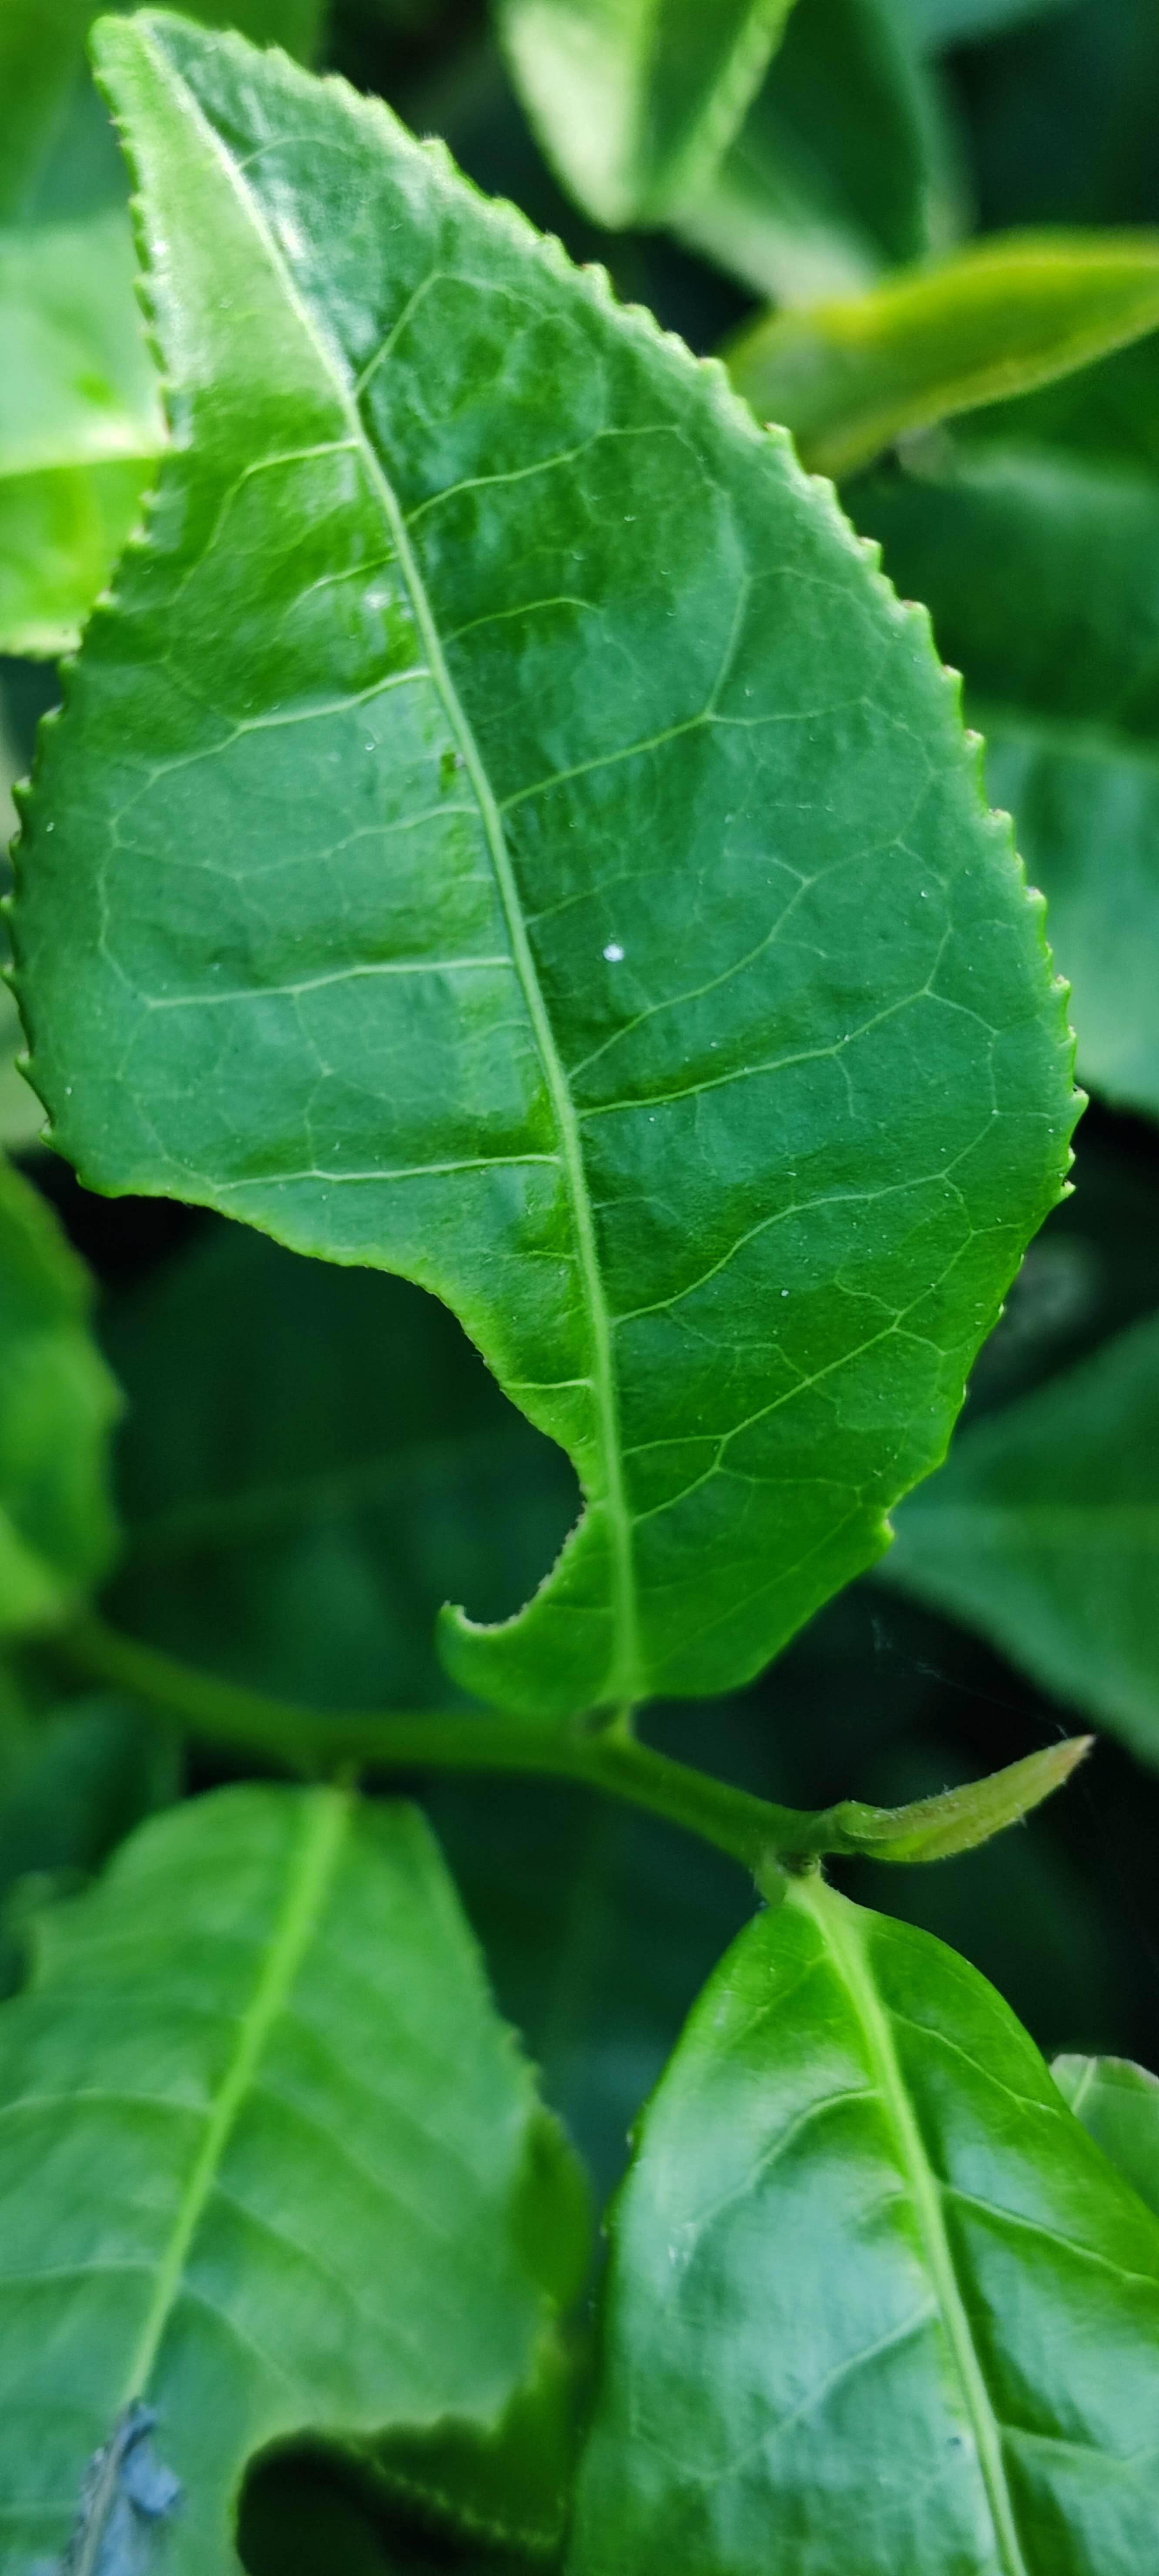chihuo_low: (8, 11, 1093, 1725), (0, 1786, 596, 2568)
healthy: (576, 1894, 1154, 2566)
